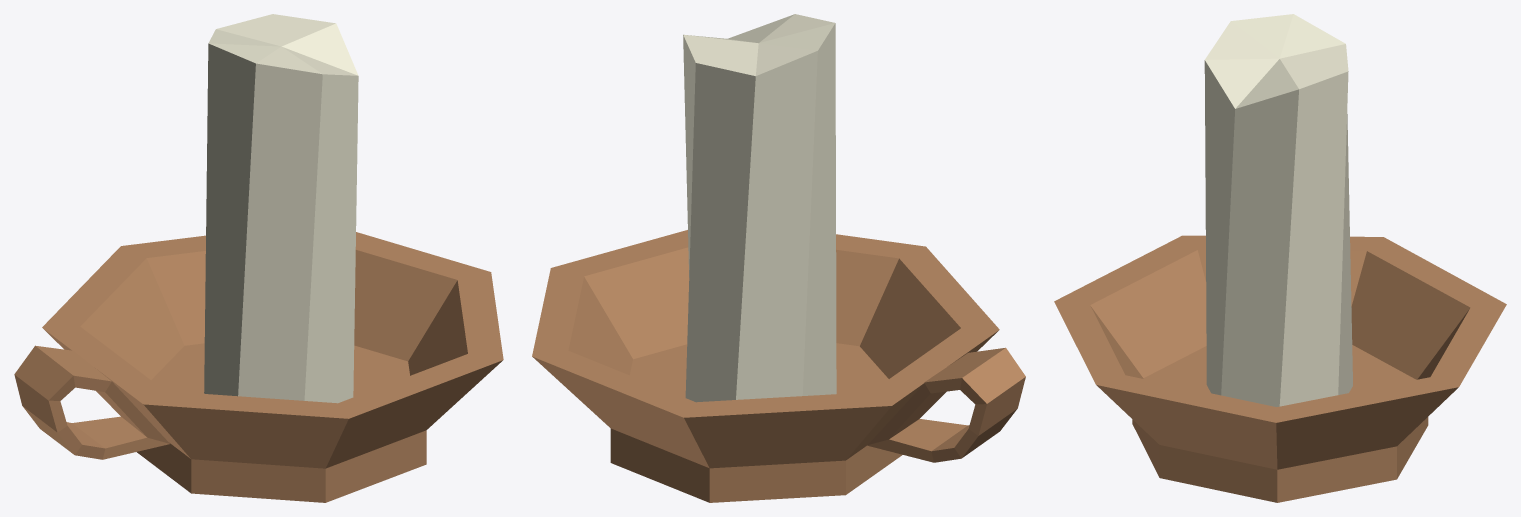
Rendered from candela4.fbx.
3 renders of one model, left to right at view 1: azimuth 30°, elevation 25°; view 2: azimuth 150°, elevation 25°; view 3: azimuth 270°, elevation 25°, orthographic. The views are drawn at different scales.
Parts seen in each view (by area): view 1: candleBig_Base_0.002; view 2: candleBig_Base_0.002; view 3: candleBig_Base_0.002.
Boxes of the visible parts, bbox=[...] form: candleBig_Base_0.002: bbox=[14, 14, 503, 502]; candleBig_Base_0.002: bbox=[532, 14, 1025, 502]; candleBig_Base_0.002: bbox=[1054, 14, 1506, 502].
Bounding box in the file's own units: 16.66 × 14.18 × 14.78.
